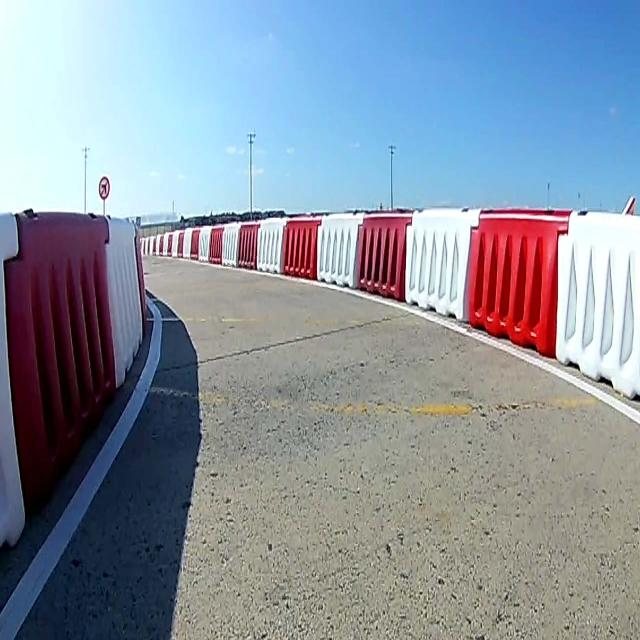soladonulmez: (98, 172, 110, 202)
